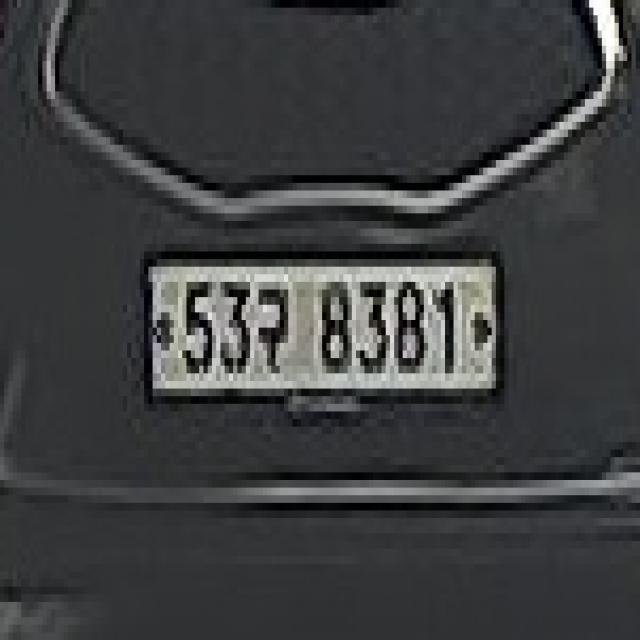1: (424, 267, 470, 381)
3: (352, 274, 394, 381), (216, 274, 254, 374)
5: (174, 267, 220, 381)
8: (390, 282, 432, 381), (322, 274, 356, 374)
gu: (246, 274, 292, 374)
license_plate: (140, 236, 508, 404)
